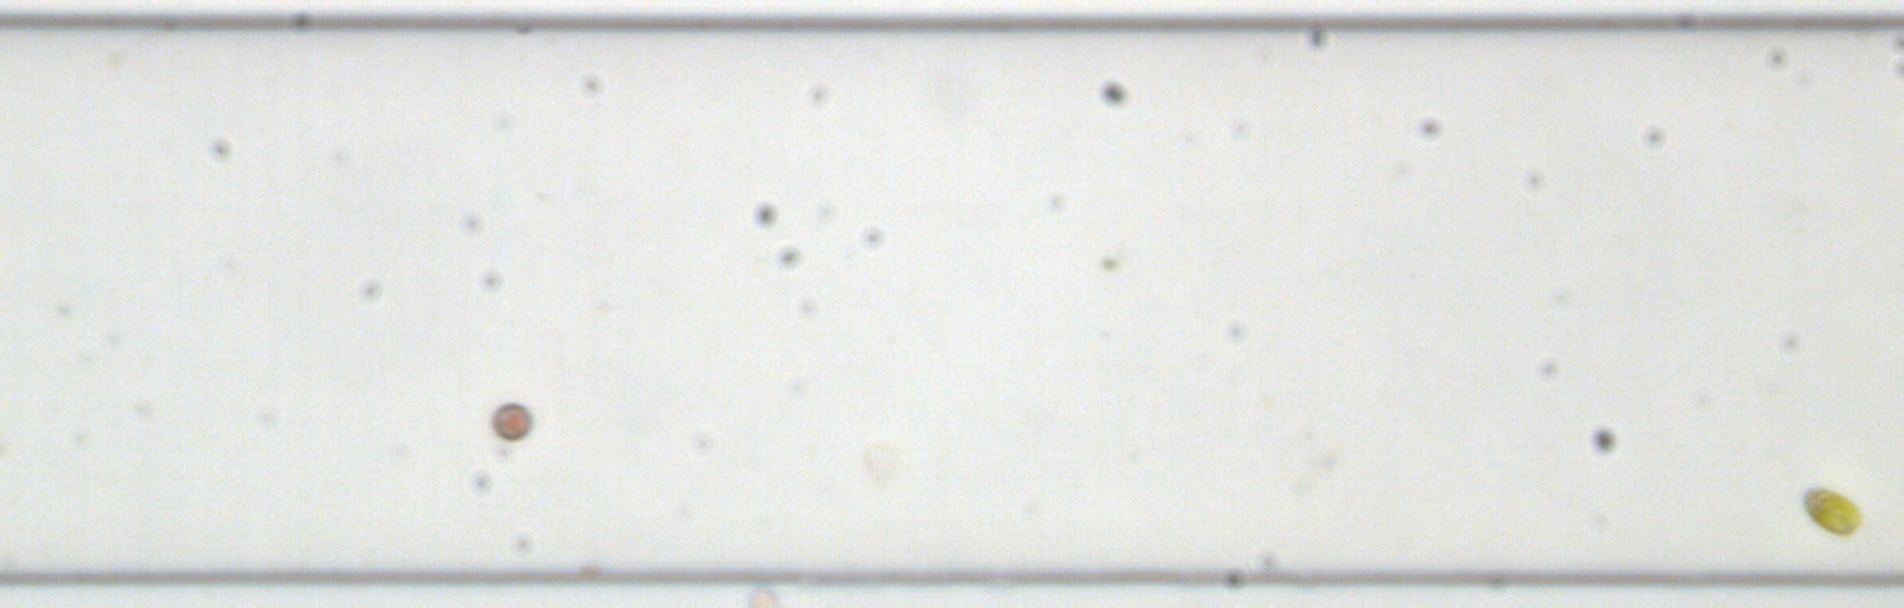Chlorella: (1098, 252, 1118, 275)
Platymonas: (1800, 479, 1861, 540)
Porphyridium: (489, 399, 535, 442)
